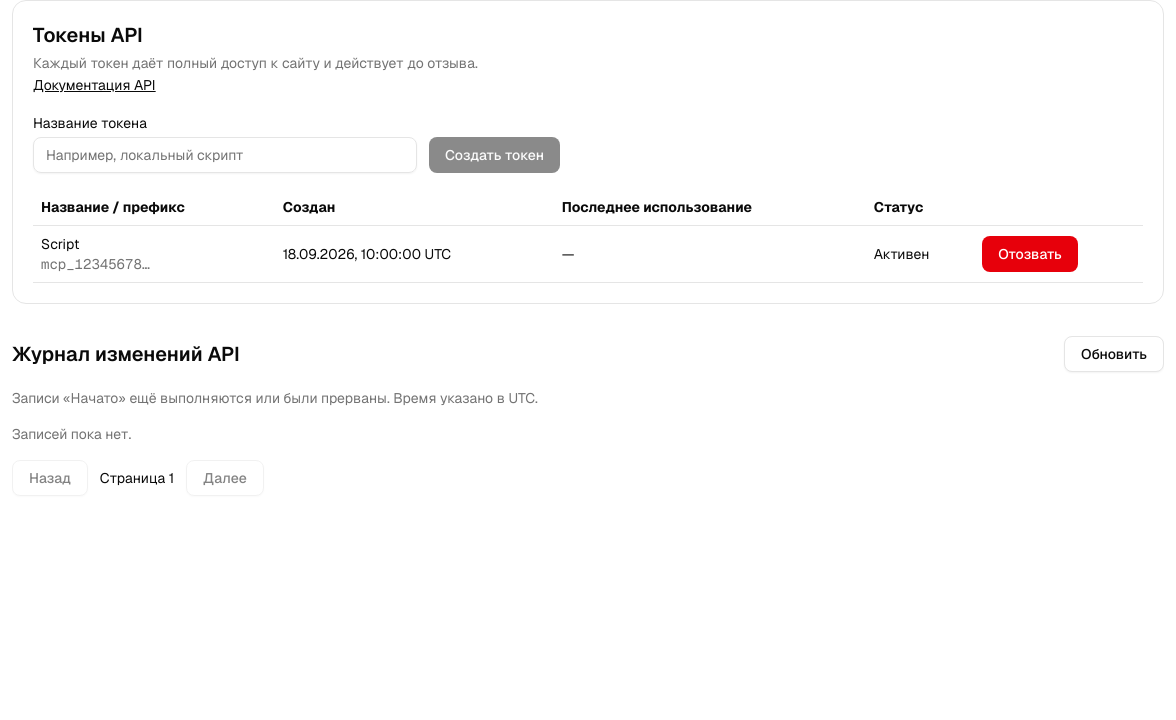
Test case: API tab › reports transport failures without leaking thrown details
Type "Agent" into the field labelled "Название токена".
click(225, 155); type("Agent")  # box [33,137,417,173]
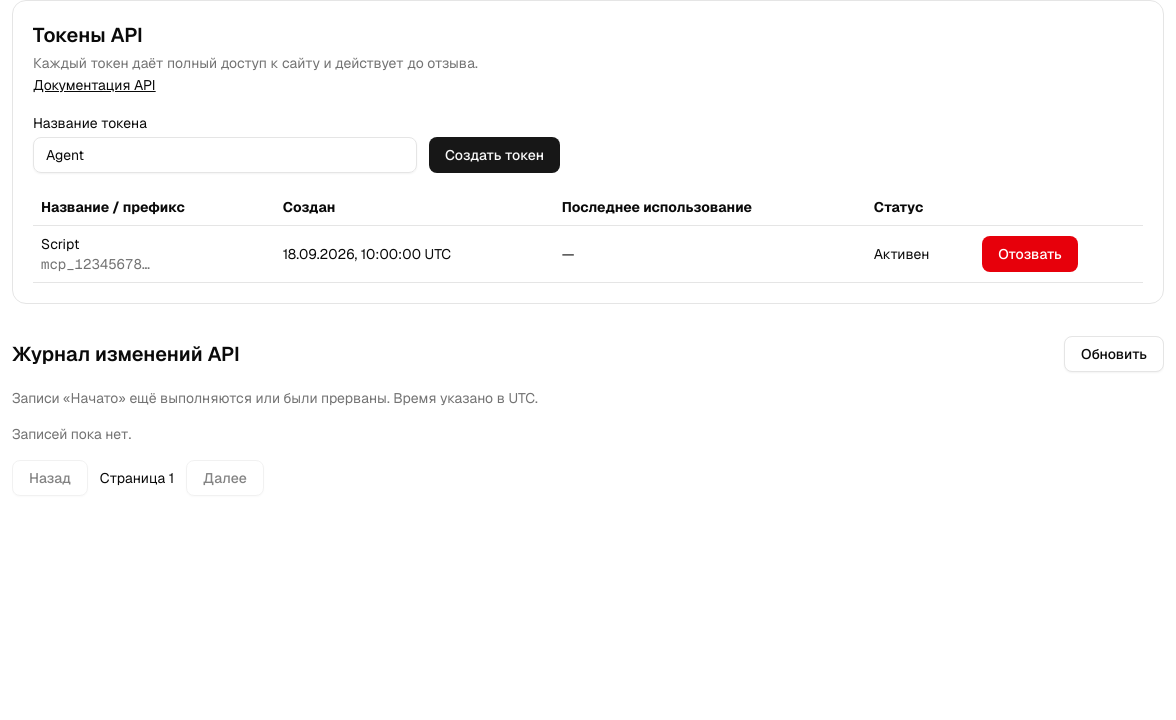
Click the button "Создать токен".
click(494, 155)  # box [429,137,560,173]
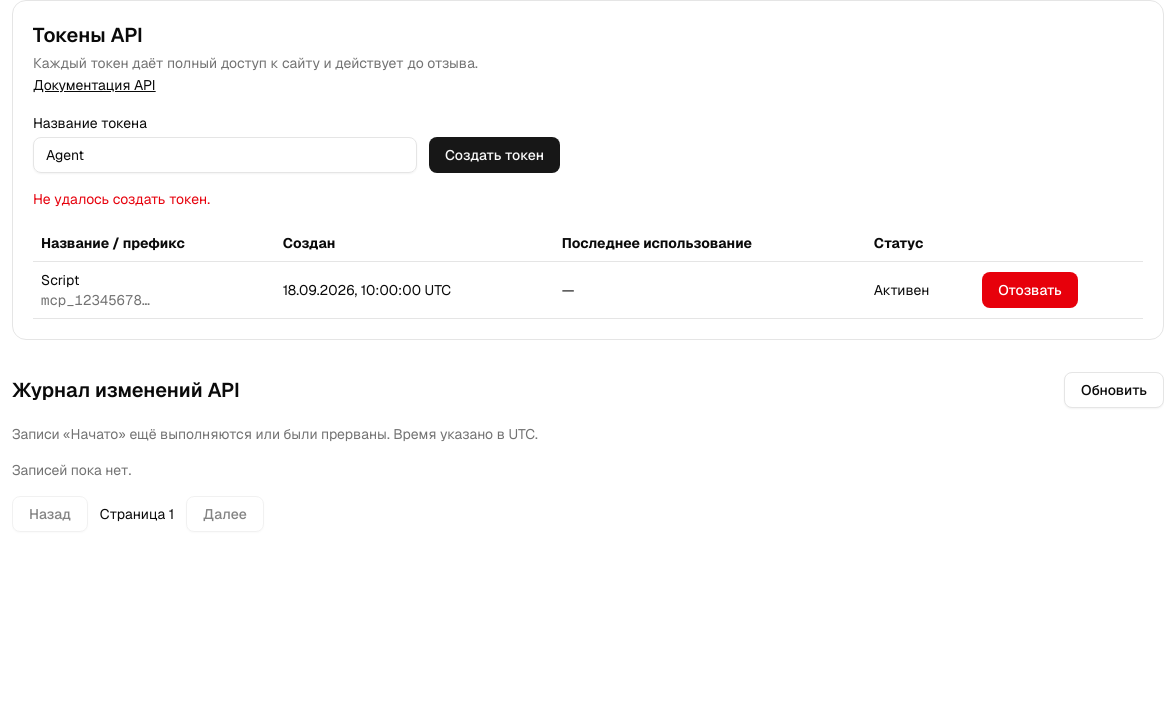
Result: the message reads "Не удалось создать токен." at [33,190,210,208]
